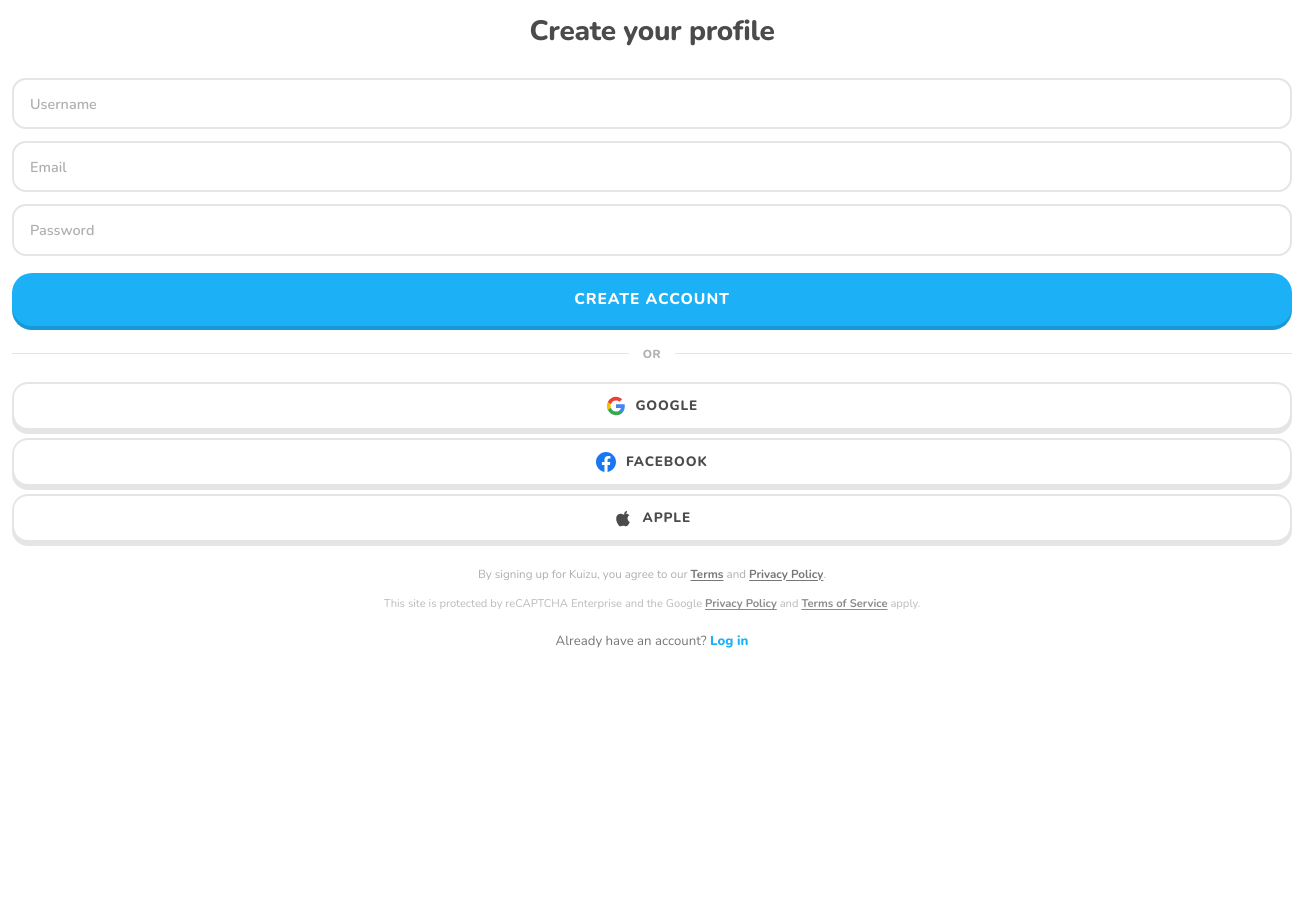
Test: RegisterPage Component › displays error if username is too short
Type "ab" into the field with placeholder "Username" at (652, 104), box [14,80,1290,127]
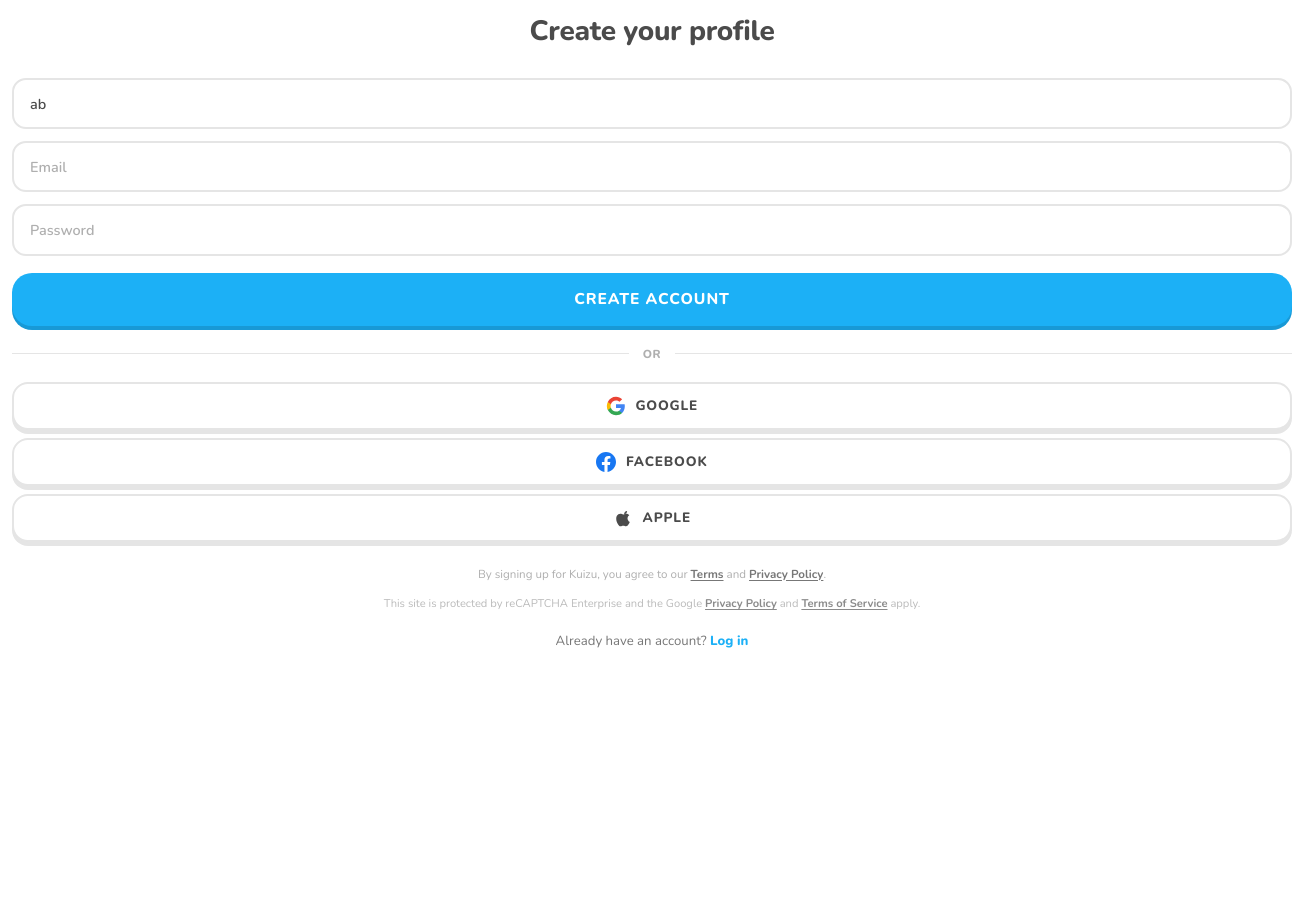
Click the button "Create Account" at (652, 299), box [12,273,1292,326]
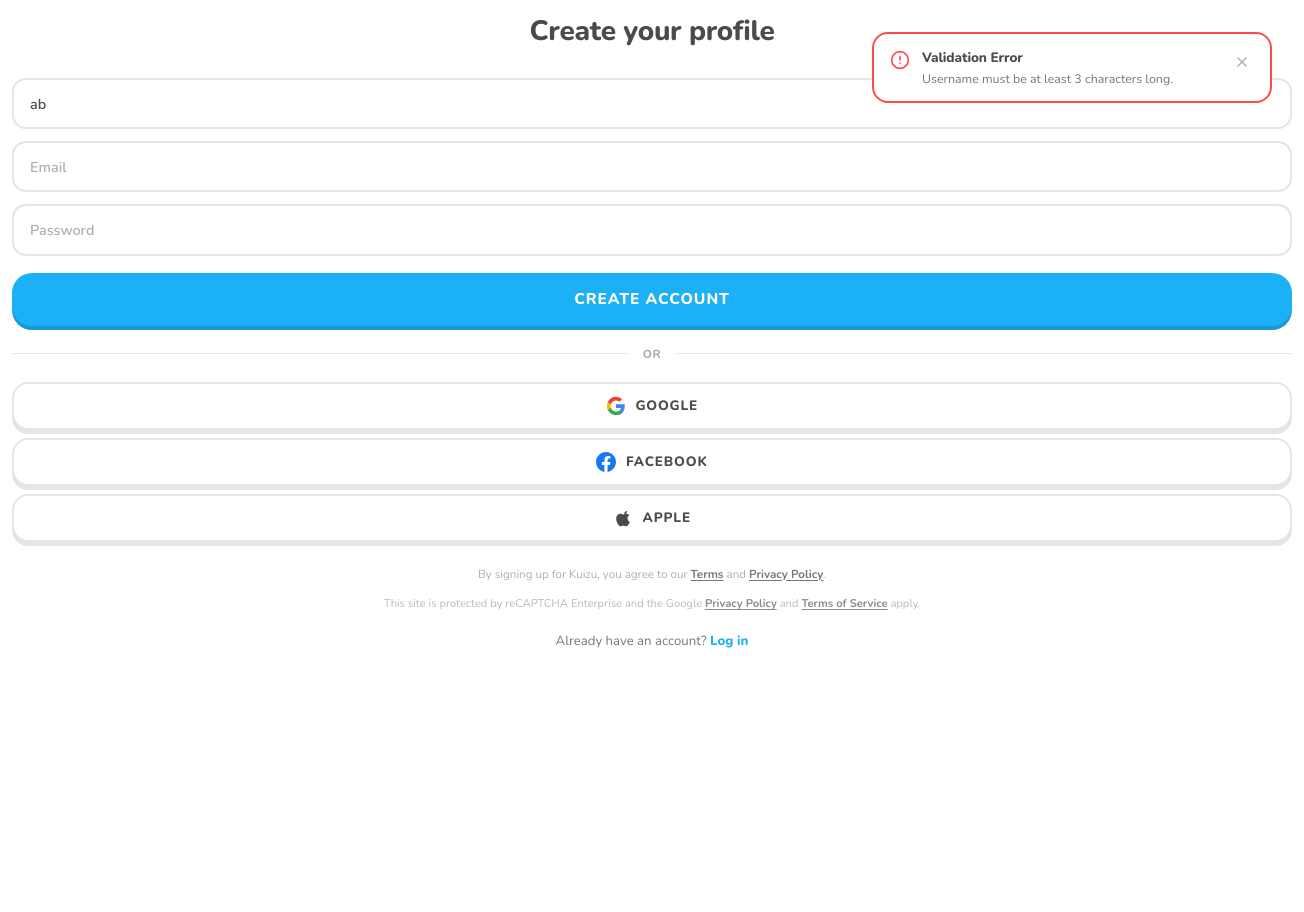
Expected: the text "Username must be at least 3 characters long." is shown, [922,70,1173,87]
